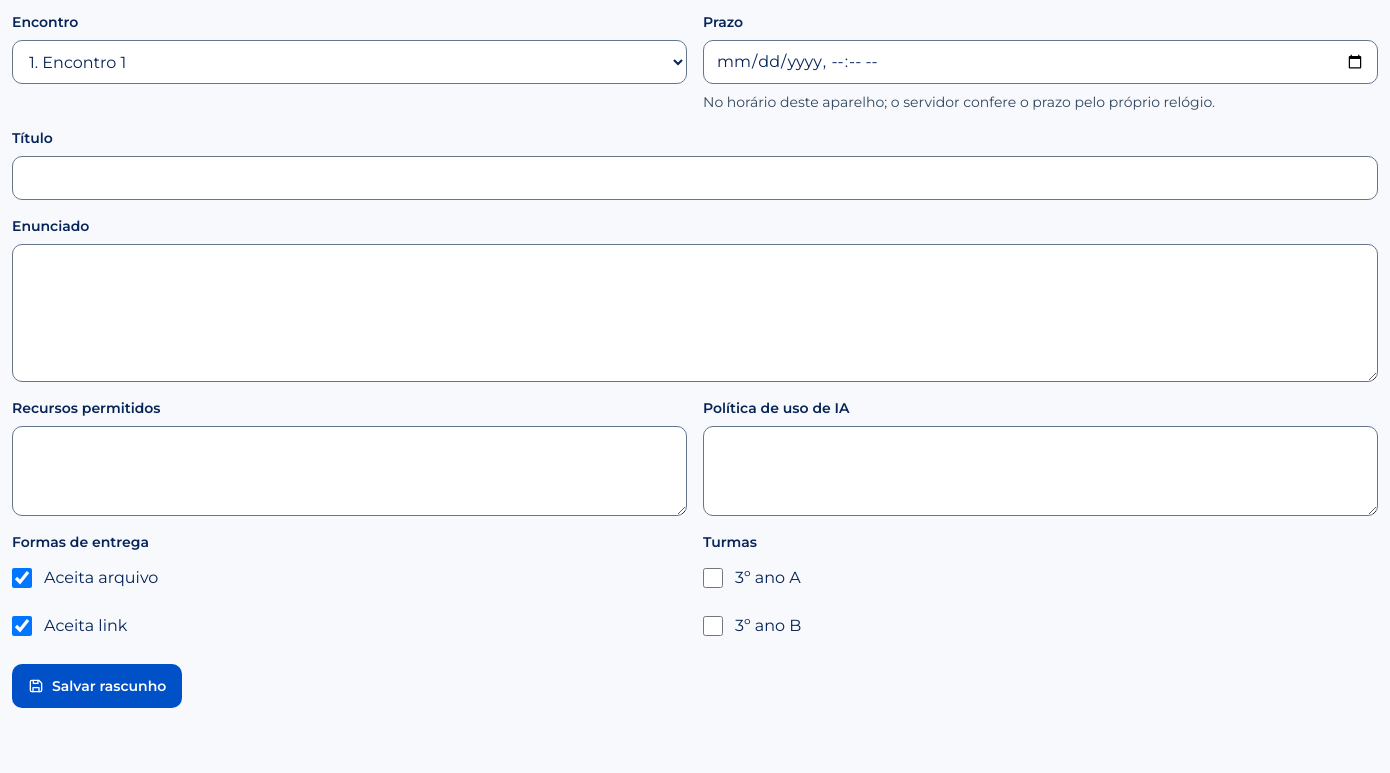
Test: FormDesafio (US1, FR-001) › valida título, prazo, turma e forma de entrega antes de enviar
The width and height of the screenshot is (1390, 773).
Type "Ab" into the field labelled "Título". click: (695, 178)
box: 12,156 -> 1378,200
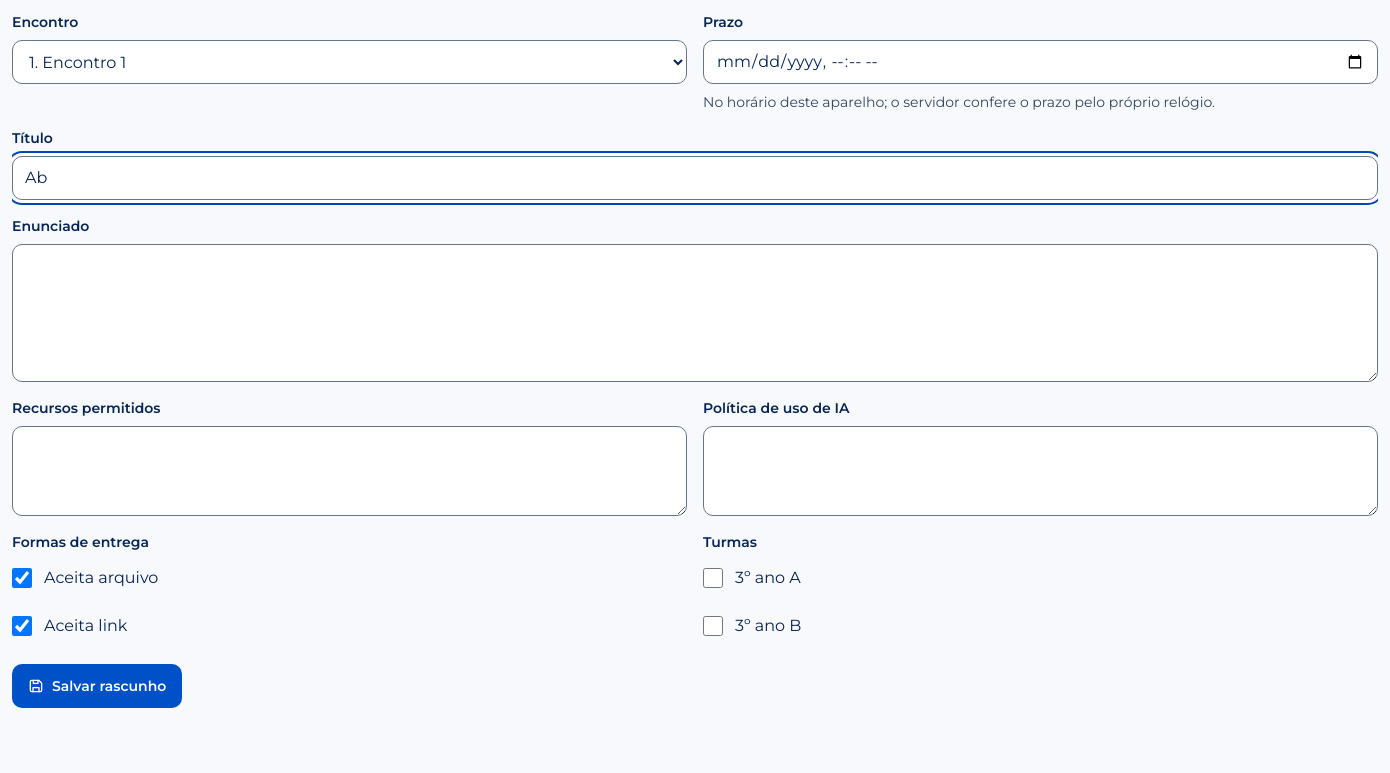
Click the checkbox labelled "Aceita arquivo". click: (22, 578)
box: 12,568 -> 32,588
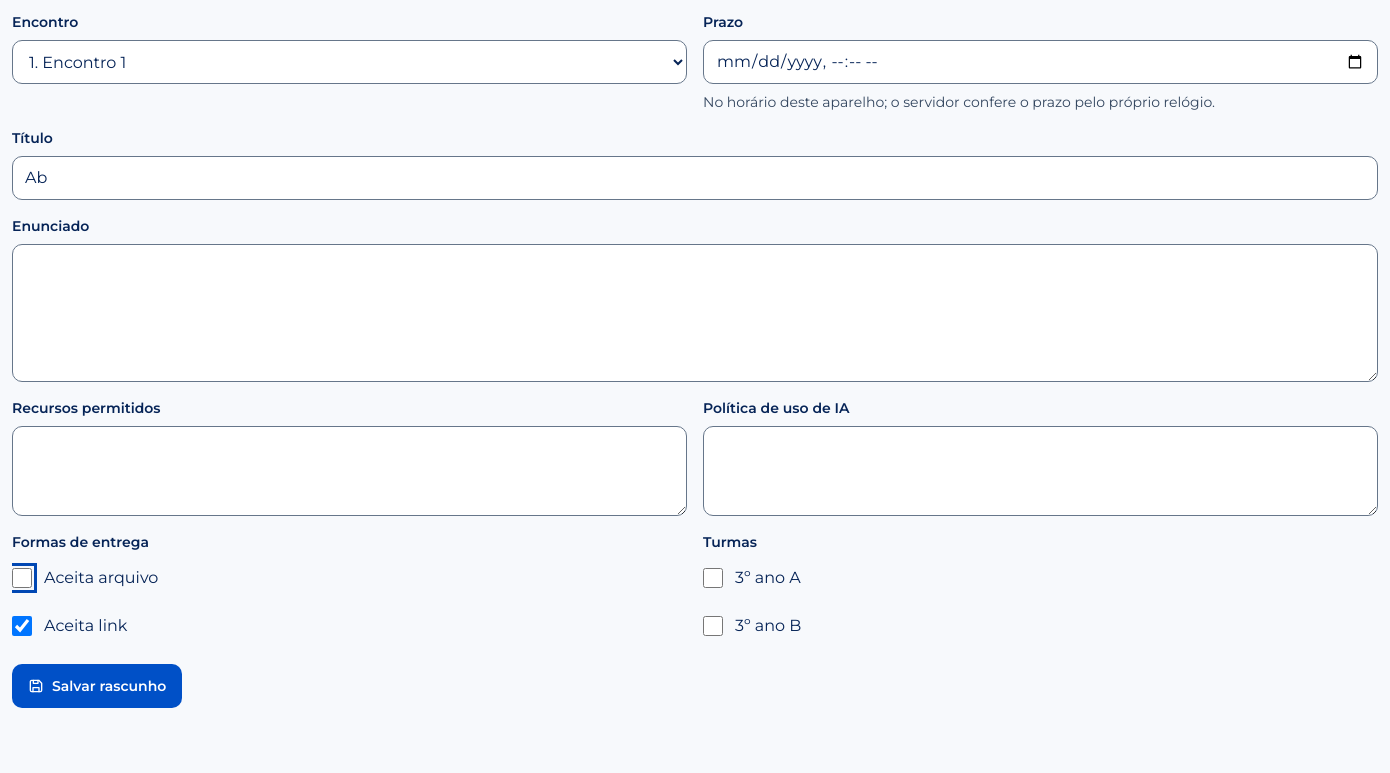
Click the checkbox labelled "Aceita link". click: (22, 626)
box: 12,616 -> 32,636
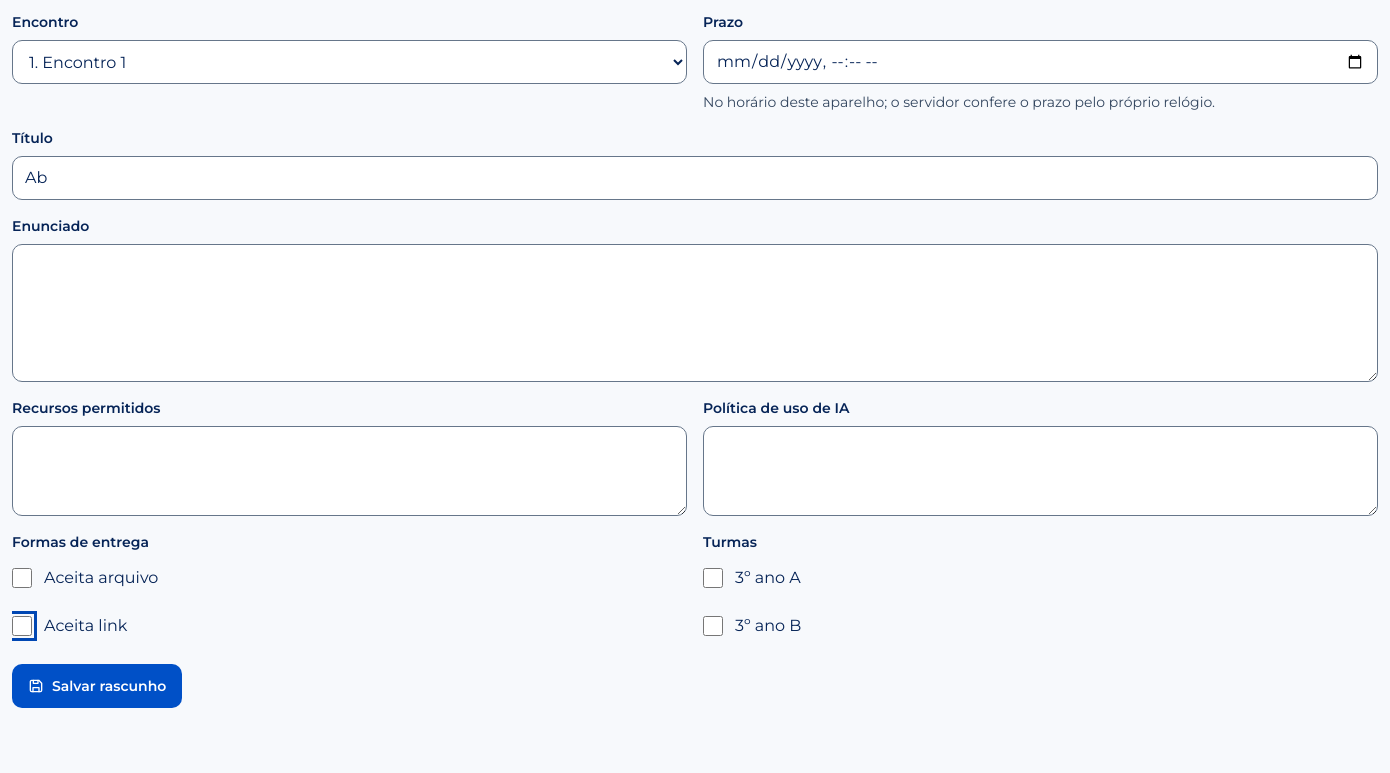
Click the button "Salvar rascunho". click: (97, 686)
box: 12,664 -> 182,708
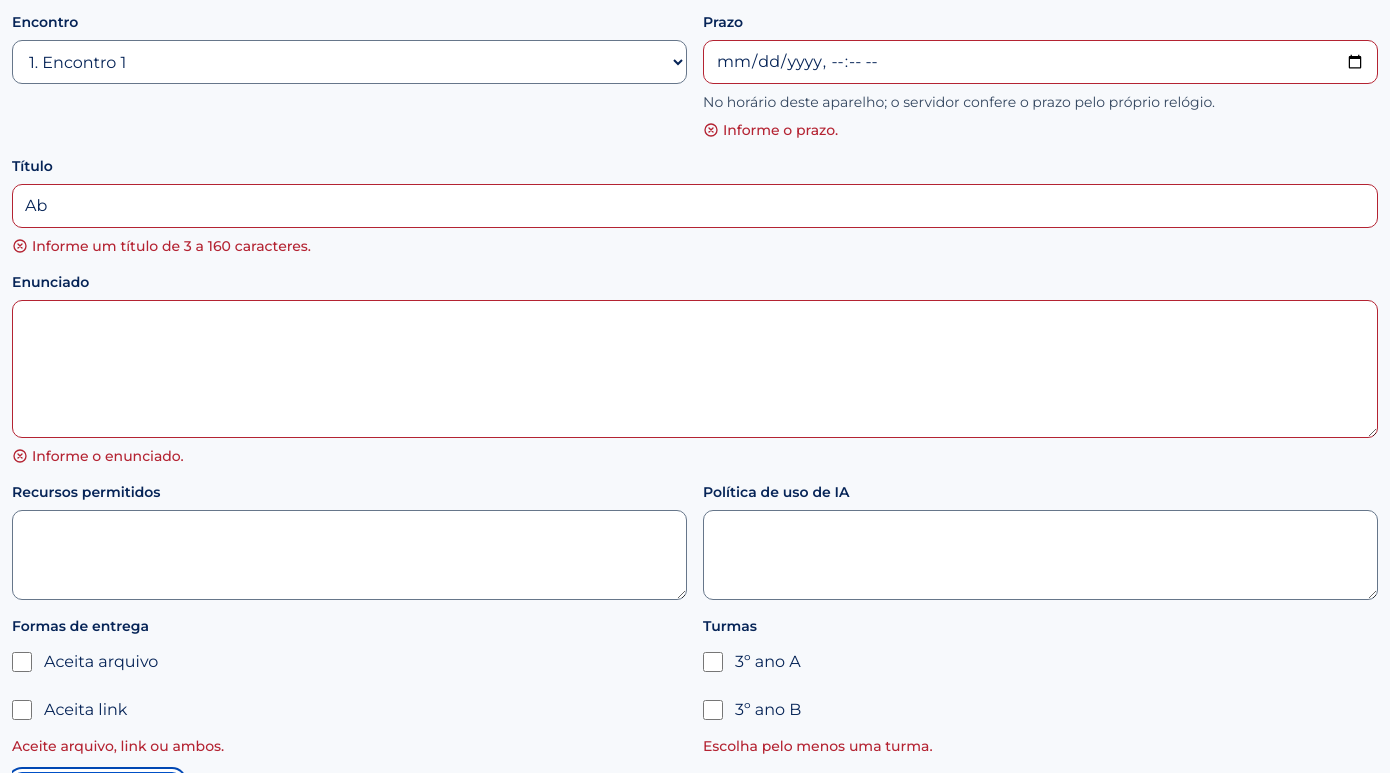
Expected: the text "Informe um título de 3 a 160 caracteres." is shown, 12,237 -> 311,255
Expected: the text "Informe o prazo." is shown, 703,121 -> 838,139
Expected: the text "Escolha pelo menos uma turma." is shown, 703,737 -> 933,755
